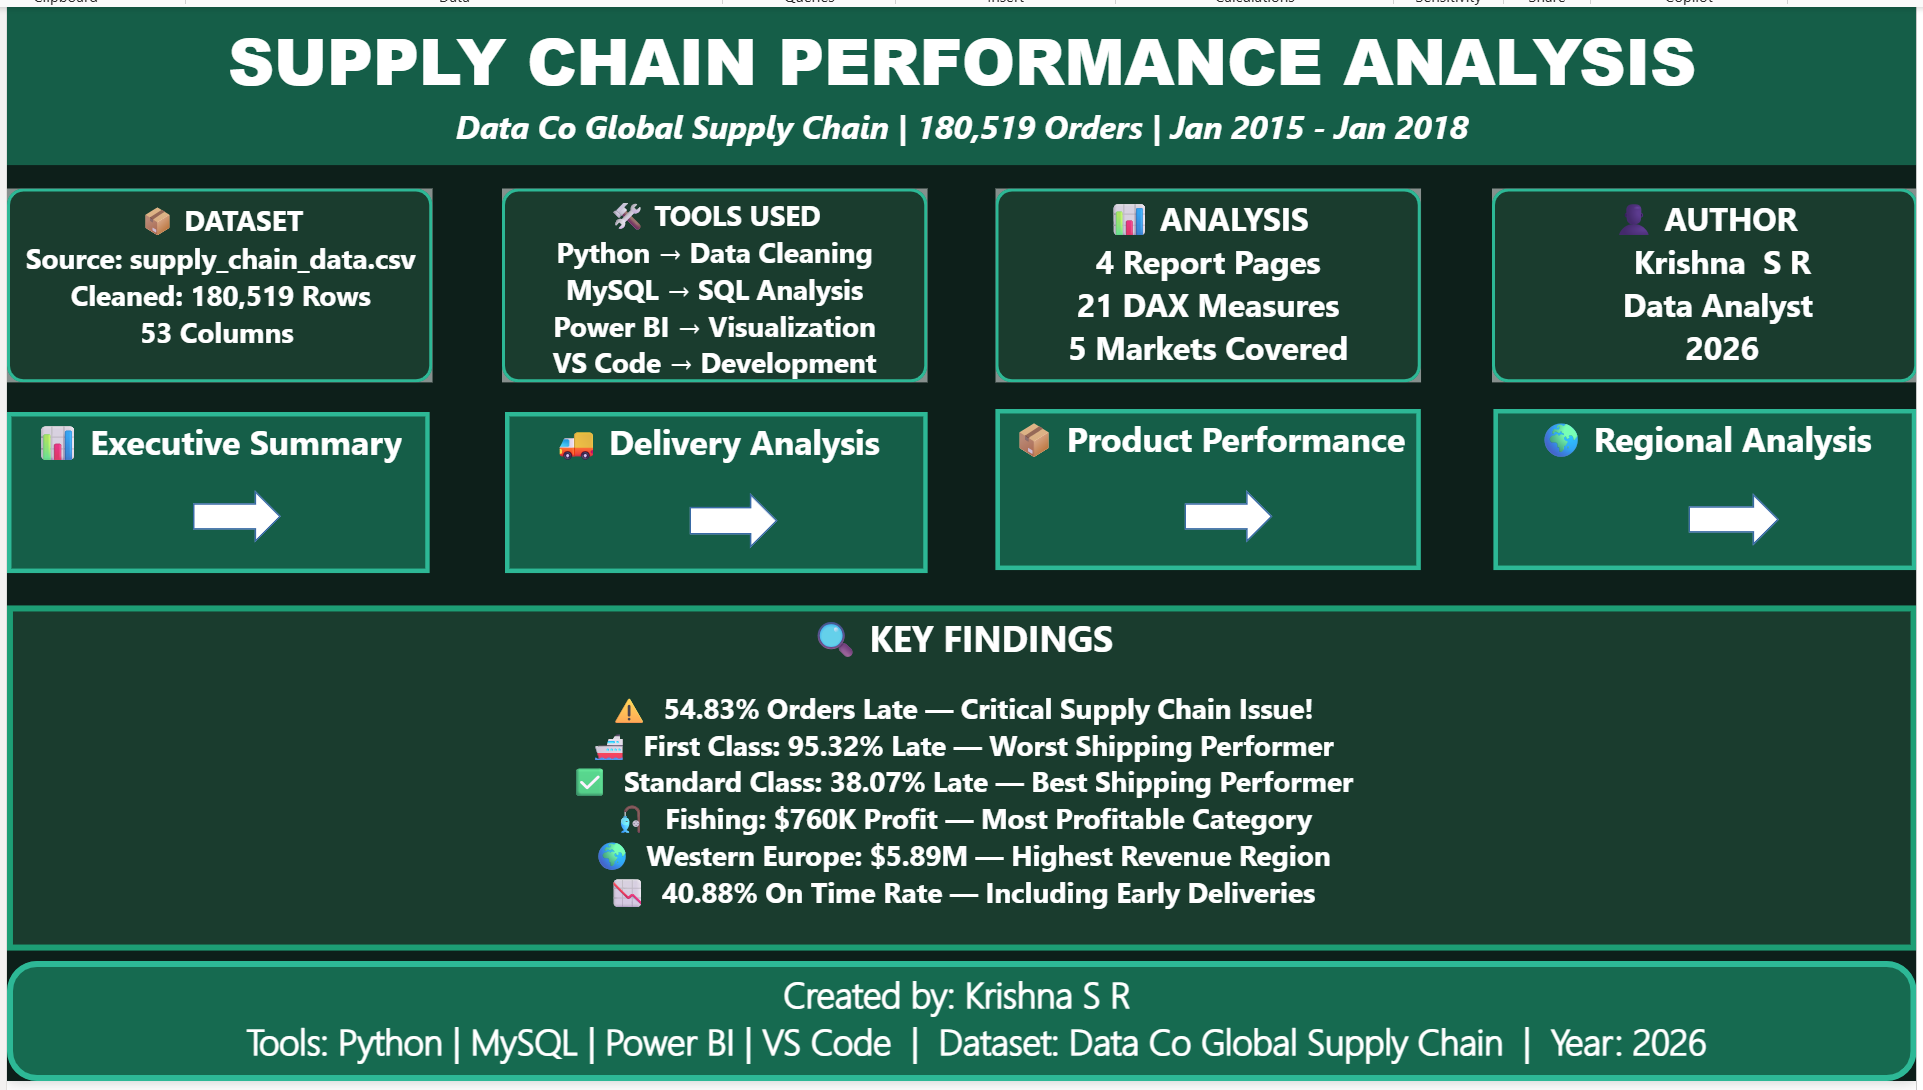

Layout of this report page (visuals, bound fields, positions):
{"tool":"powerbi","page":{"name":"Home","canvas":[1280,720],"ordinal":0},"visuals":[{"type":"textbox","box":[0,0,1280.6,106.3],"z":0},{"type":"shape","box":[0,121.5,285.1,129.9],"z":1000},{"type":"shape","box":[332.4,121.5,285.1,129.9],"z":2000},{"type":"shape","box":[663.1,121.5,285.1,129.9],"z":3000},{"type":"shape","box":[995.4,121.5,285.1,129.9],"z":4000},{"type":"textbox","box":[0,121.7,286.6,185.1],"z":5000},{"type":"textbox","box":[332.4,121.5,285.1,150.2],"z":6000},{"type":"textbox","box":[663.1,121.5,285.1,129.9],"z":7000},{"type":"textbox","box":[995.4,121.5,285.1,129.9],"z":8000},{"type":"actionButton","box":[0,271.6,283.4,108],"z":9000},{"type":"shape","box":[124.9,323.9,59.1,35.4],"z":10000},{"type":"actionButton","box":[334.1,271.6,283.4,108],"z":11000},{"type":"actionButton","box":[663.1,270,285.1,108],"z":12000},{"type":"actionButton","box":[997.1,270,283.4,108],"z":13000},{"type":"shape","box":[789.6,323.9,59.1,35.4],"z":14000},{"type":"shape","box":[457.2,325.6,59.1,37.1],"z":15000},{"type":"shape","box":[1127,325.6,60.7,35.4],"z":16000},{"type":"shape","box":[0,401.3,1280.3,231.3],"z":17000},{"type":"textbox","box":[0,401.3,1280.3,231.3],"z":18000},{"type":"shape","box":[0,639.7,1280.3,80.5],"z":19000},{"type":"textbox","box":[0,639.7,1280.3,80.5],"z":21000}]}

Visuals, with their boxes on the page's 1280x720 design canvas (x1, y1, x2, y2). These are canvas units, not pixel positions in the 1923x1090 screenshot, which may show the page scaled, cropped or inside an application window:
textbox: [x1=0, y1=0, x2=1281, y2=106]
shape: [x1=0, y1=122, x2=285, y2=251]
shape: [x1=332, y1=122, x2=618, y2=251]
shape: [x1=663, y1=122, x2=948, y2=251]
shape: [x1=995, y1=122, x2=1280, y2=251]
textbox: [x1=0, y1=122, x2=287, y2=307]
textbox: [x1=332, y1=122, x2=618, y2=272]
textbox: [x1=663, y1=122, x2=948, y2=251]
textbox: [x1=995, y1=122, x2=1280, y2=251]
actionButton: [x1=0, y1=272, x2=283, y2=380]
shape: [x1=125, y1=324, x2=184, y2=359]
actionButton: [x1=334, y1=272, x2=618, y2=380]
actionButton: [x1=663, y1=270, x2=948, y2=378]
actionButton: [x1=997, y1=270, x2=1280, y2=378]
shape: [x1=790, y1=324, x2=849, y2=359]
shape: [x1=457, y1=326, x2=516, y2=363]
shape: [x1=1127, y1=326, x2=1188, y2=361]
shape: [x1=0, y1=401, x2=1280, y2=633]
textbox: [x1=0, y1=401, x2=1280, y2=633]
shape: [x1=0, y1=640, x2=1280, y2=720]
textbox: [x1=0, y1=640, x2=1280, y2=720]
